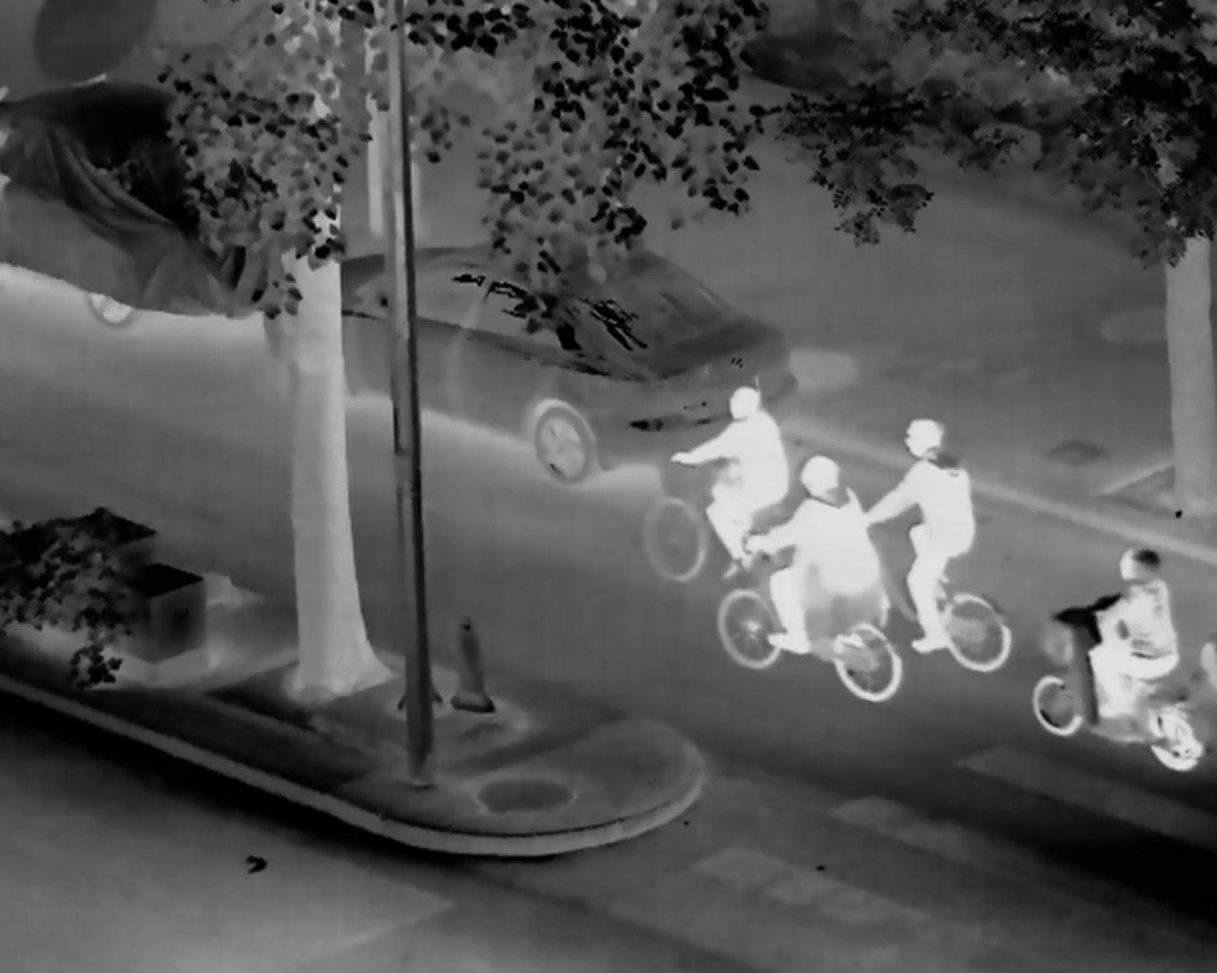person: (856, 421, 978, 654), (751, 457, 880, 654), (673, 390, 789, 567), (1091, 545, 1178, 729)
